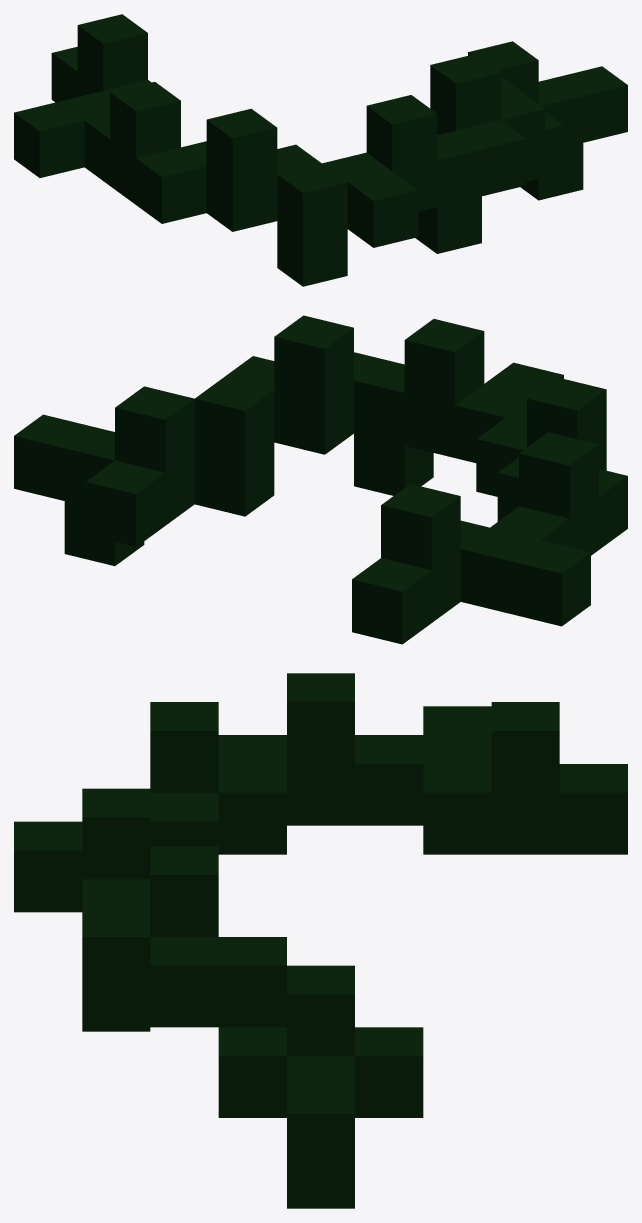
File: thorn1.obj
The picture shows the model from 3 angles, top to bottom: view 1: azimuth 30°, elevation 25°; view 2: azimuth 150°, elevation 25°; view 3: azimuth 270°, elevation 25°; orthographic projection. The views are drawn at different scales.
Parts seen in each view (by area): view 1: thorn1; view 2: thorn1; view 3: thorn1.
Boxes of the visible parts, x1=… form: thorn1: x1=14, y1=14, x2=627, y2=286; thorn1: x1=14, y1=315, x2=627, y2=644; thorn1: x1=14, y1=673, x2=627, y2=1208.
Size of the model in its own units: 12 by 4 by 9.
Materials: 1 (1 with a texture image).
